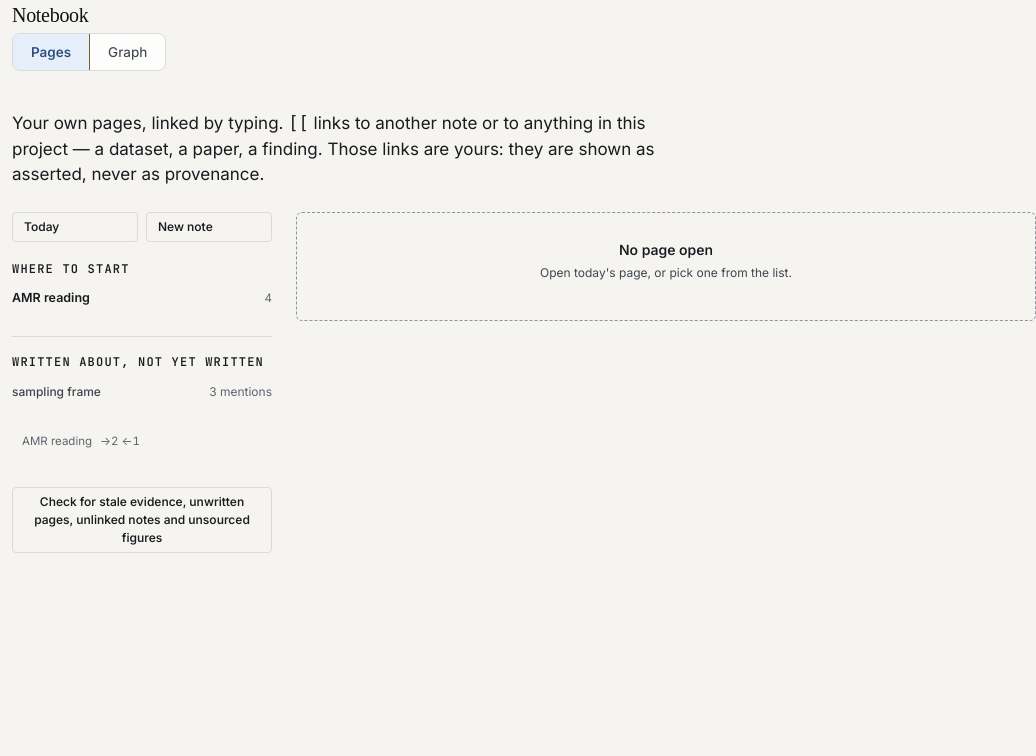
what the check found, in words › counts each kind with the server's number
The width and height of the screenshot is (1036, 756).
Click the button "stale evidence" at (142, 520), box [12, 486, 272, 552]
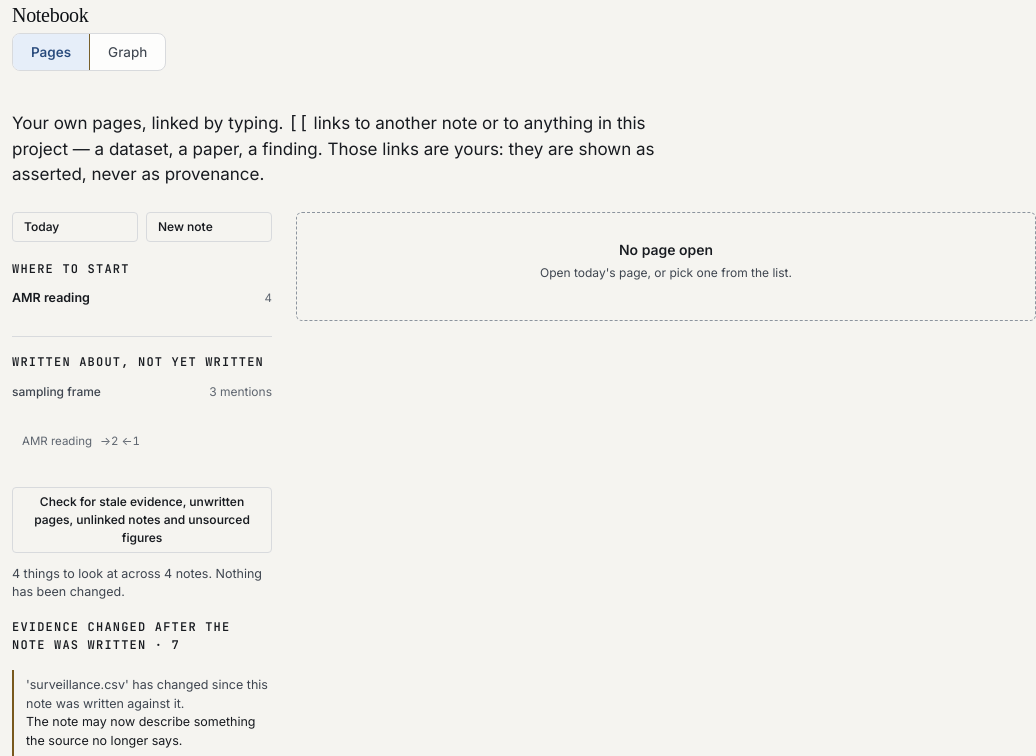
Expected: the heading "Evidence changed after the note was written · 7" is shown, [12, 619, 230, 653]
